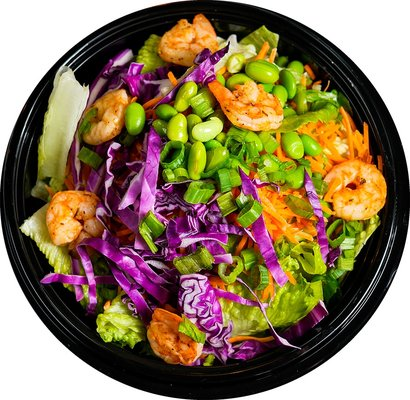curry: (95, 303, 147, 351), (134, 34, 166, 75)
